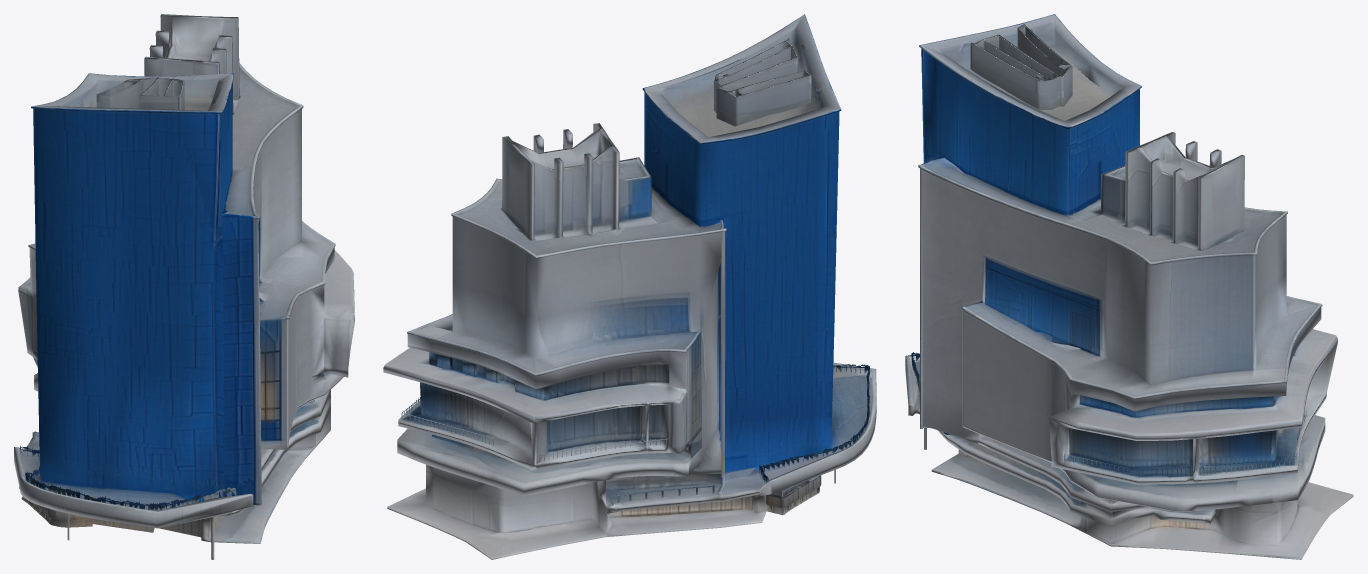
The model's file is town-glass-offices.1024.glb.
The picture shows the model from 3 angles, left to right: view 1: azimuth 30°, elevation 25°; view 2: azimuth 150°, elevation 25°; view 3: azimuth 270°, elevation 25°; orthographic projection. The views are drawn at different scales.
Parts seen in each view (by area): view 1: tripo_0be35aeb_c96d_4b8d_8065_6c0e14fbbe51; view 2: tripo_0be35aeb_c96d_4b8d_8065_6c0e14fbbe51; view 3: tripo_0be35aeb_c96d_4b8d_8065_6c0e14fbbe51.
Boxes of the visible parts, <box> form: tripo_0be35aeb_c96d_4b8d_8065_6c0e14fbbe51: <box>14,14,354,559</box>; tripo_0be35aeb_c96d_4b8d_8065_6c0e14fbbe51: <box>383,14,876,559</box>; tripo_0be35aeb_c96d_4b8d_8065_6c0e14fbbe51: <box>905,14,1353,559</box>.
Size of the model in its own units: 0.8931 by 0.9985 by 0.9995.
Materials: 1 (1 with a texture image).
